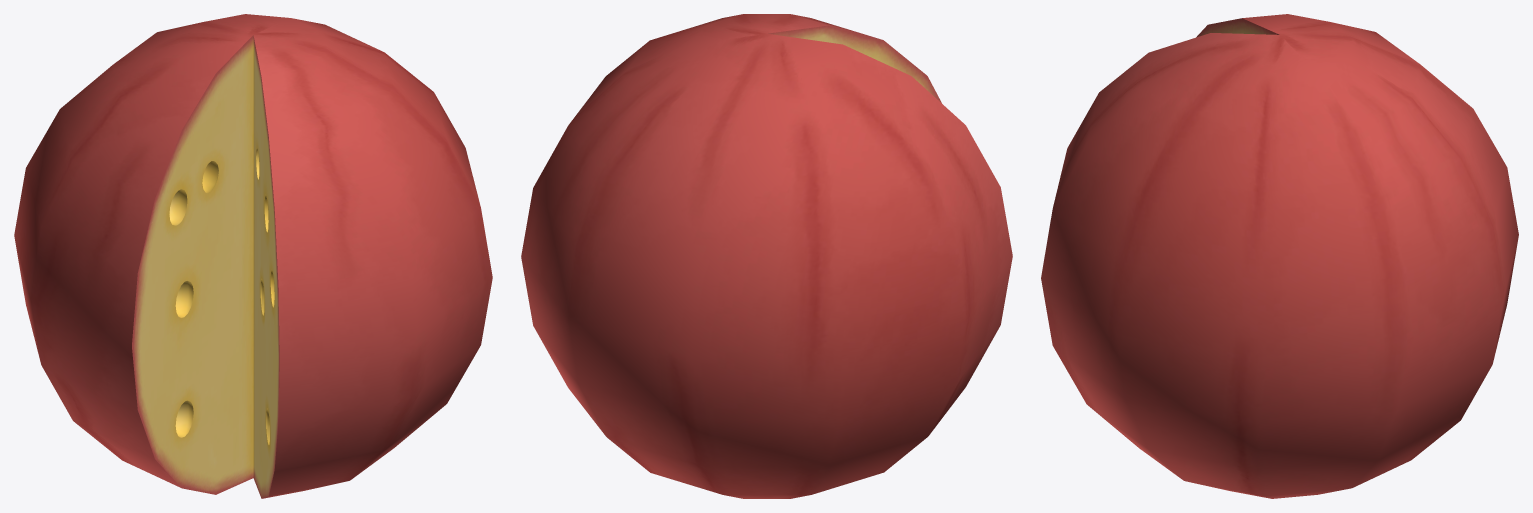
Rendered from queso  grande xd.obj.
3 renders of one model, left to right at view 1: azimuth 30°, elevation 25°; view 2: azimuth 150°, elevation 25°; view 3: azimuth 270°, elevation 25°, orthographic.
Visible parts, largest first — view 1: queso_bloque; view 2: queso_bloque; view 3: queso_bloque.
Part boxes in pixels (<box>): queso_bloque: <box>14,14,492,498</box>; queso_bloque: <box>521,14,1012,498</box>; queso_bloque: <box>1041,14,1518,498</box>.
Size of the model in its own units: 1.99 by 2 by 1.96.
1 material, 1 textured.
